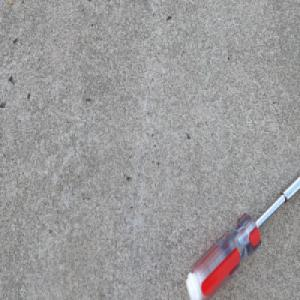Screwdriver: (183, 173, 300, 300)
